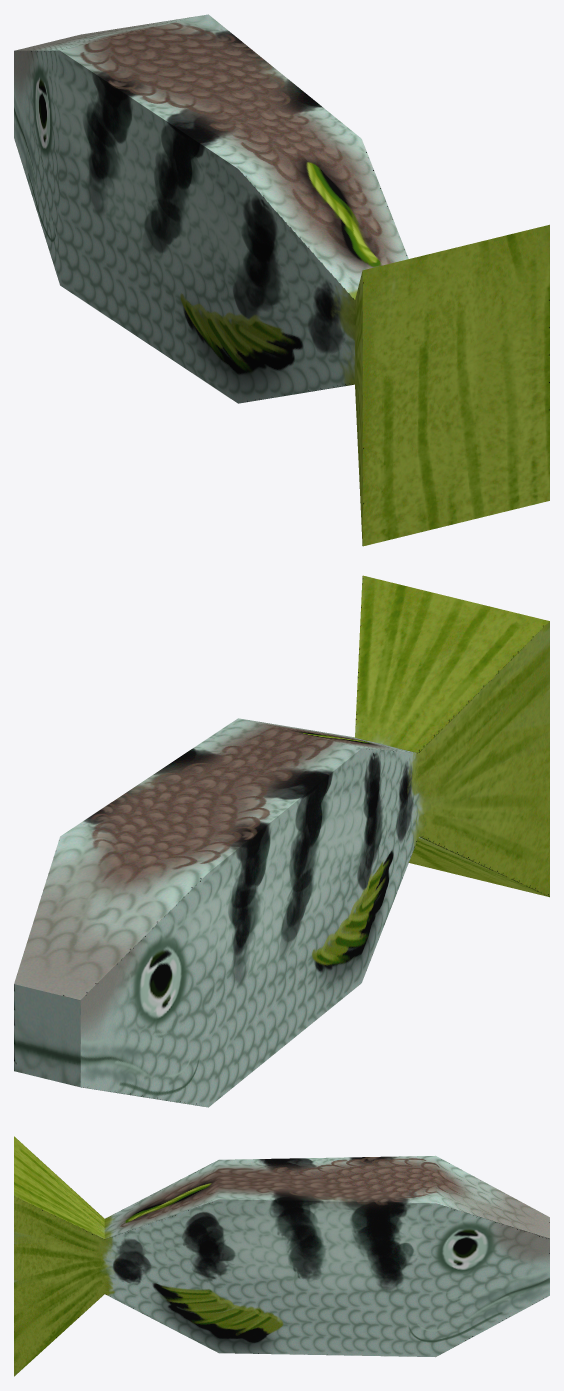
The model's file is peixe_fbx.fbx.
3 renders of one model, top to bottom at view 1: azimuth 30°, elevation 25°; view 2: azimuth 150°, elevation 25°; view 3: azimuth 270°, elevation 25°, orthographic. The views are drawn at different scales.
Visible parts, largest first — view 1: Box001; view 2: Box001; view 3: Box001.
Part boxes in pixels (x1,y1,x2,y2): Box001: (14,14,549,546); Box001: (14,575,549,1107); Box001: (14,1136,549,1376).
Size of the model in its own units: 21.42 by 30.14 by 80.93.
Materials: 1 (1 with a texture image).
